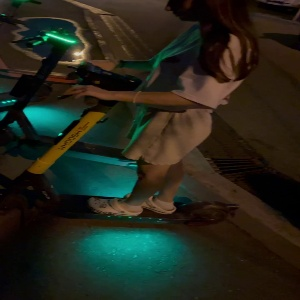human on a scooter: (1, 1, 260, 226)
